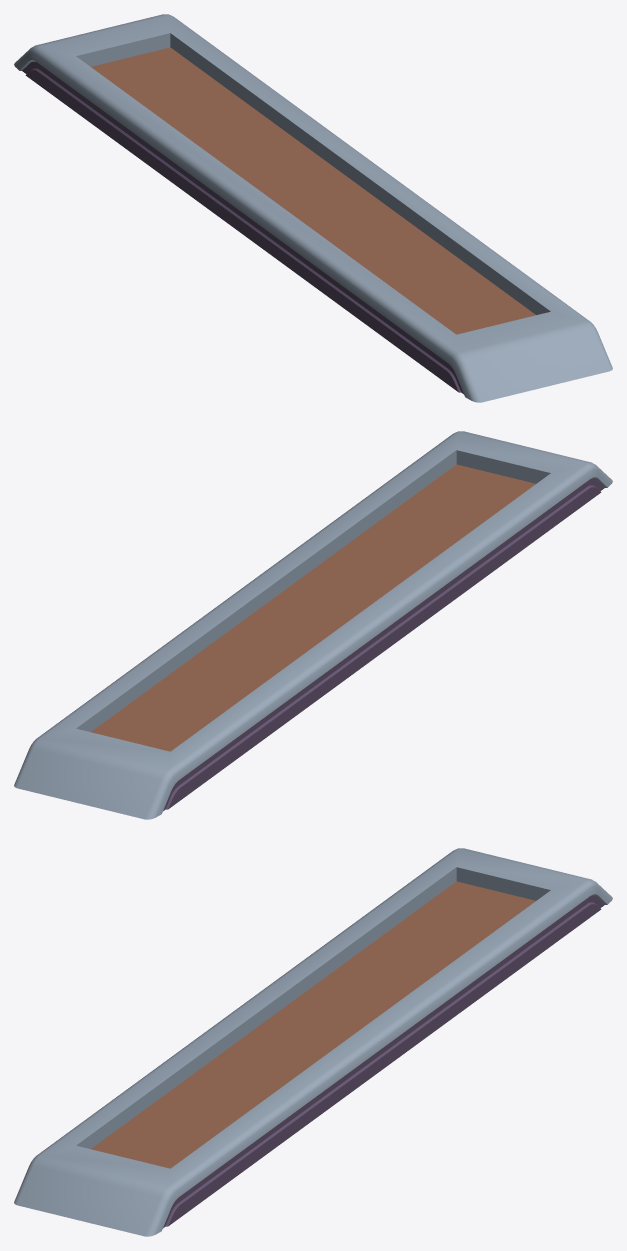
The model's file is PotMiddleLarge.fbx.
3 renders of one model, top to bottom at view 1: azimuth 30°, elevation 25°; view 2: azimuth 150°, elevation 25°; view 3: azimuth 330°, elevation 25°, orthographic.
Parts seen in each view (by area): view 1: PotMiddleLarge_LOD0; view 2: PotMiddleLarge_LOD0; view 3: PotMiddleLarge_LOD0.
Boxes of the visible parts, left/top/right/bottom form: PotMiddleLarge_LOD0: left=14, top=14, right=612, bottom=402; PotMiddleLarge_LOD0: left=14, top=431, right=612, bottom=819; PotMiddleLarge_LOD0: left=14, top=848, right=612, bottom=1236.
Size of what is drawn, in the model's own units: 169 by 36.98 by 954.
